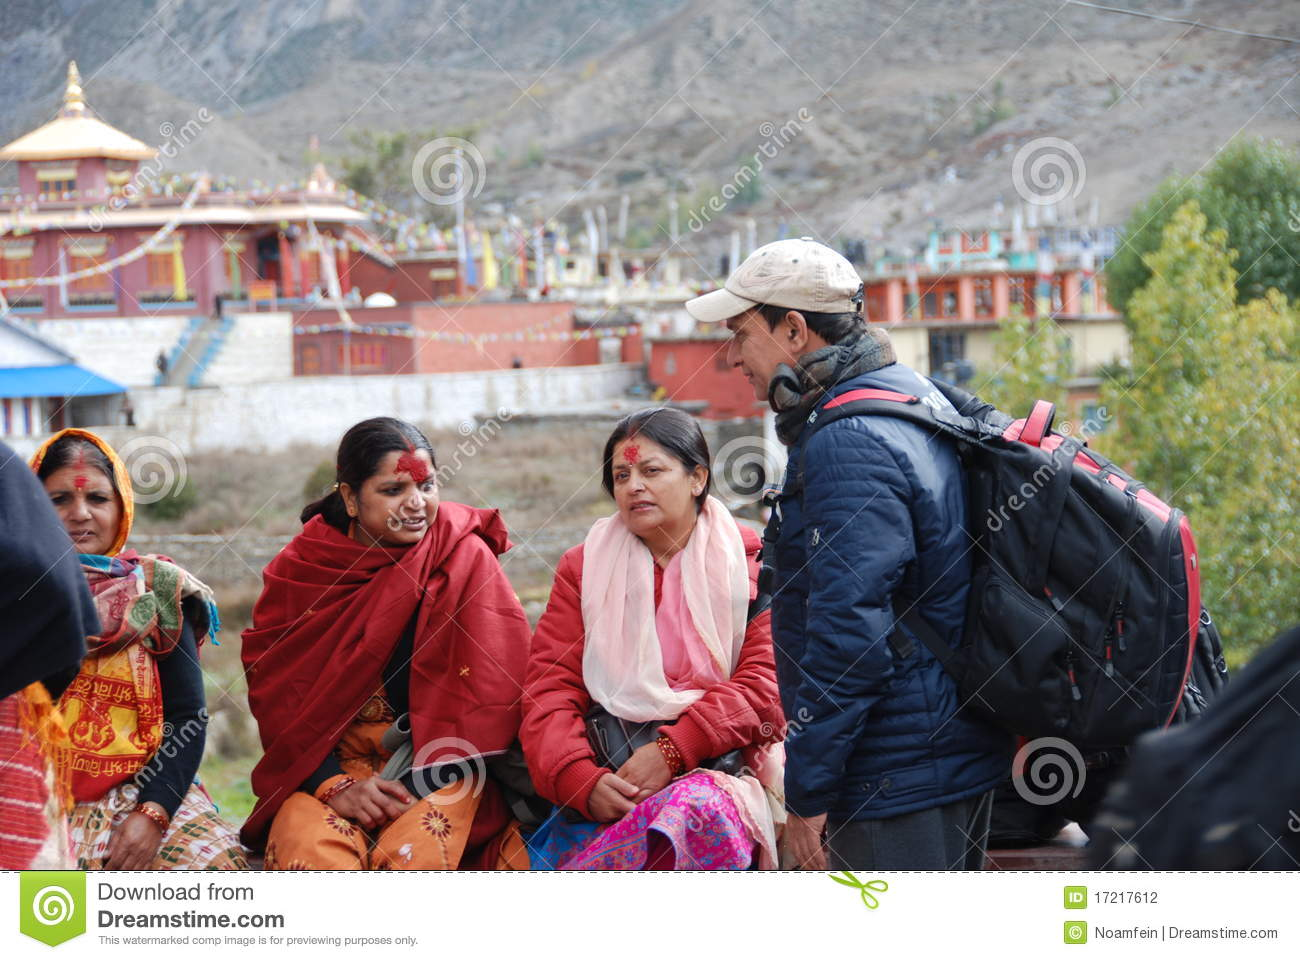human: (675, 223, 979, 870), (224, 402, 530, 875), (519, 388, 788, 876), (13, 395, 221, 872)
